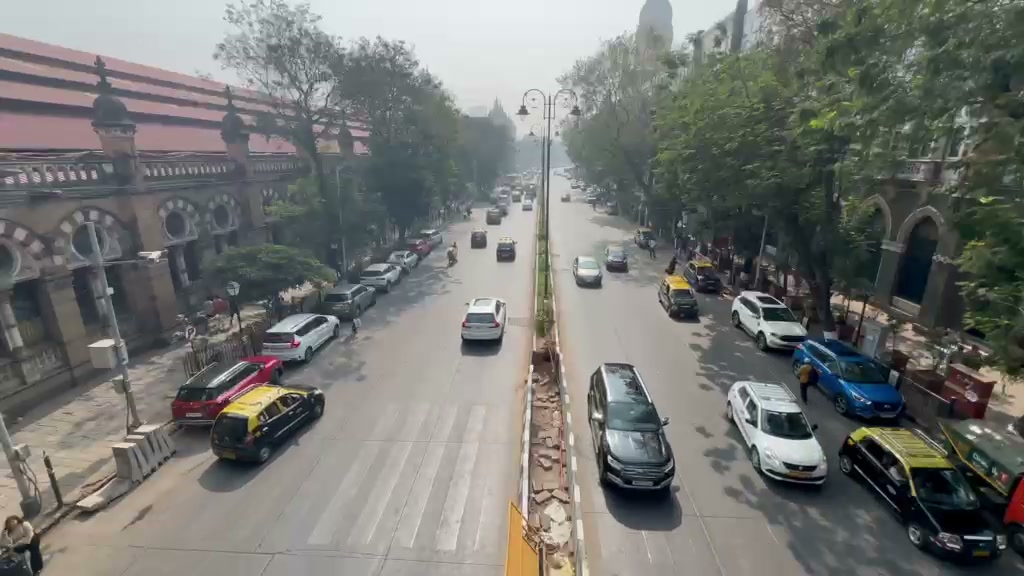car: (837, 424, 1004, 564), (586, 361, 677, 495), (725, 380, 830, 489), (791, 336, 907, 423), (208, 382, 327, 466), (171, 355, 282, 426), (938, 416, 1024, 503), (730, 291, 809, 353), (261, 312, 340, 366), (317, 282, 377, 319), (460, 296, 507, 341), (657, 274, 700, 321), (359, 262, 404, 293), (573, 256, 603, 288), (406, 233, 437, 257), (387, 249, 419, 271), (692, 271, 724, 293), (604, 249, 630, 273), (495, 237, 517, 262), (470, 230, 487, 249)
pedestrian: (1, 513, 44, 575)
